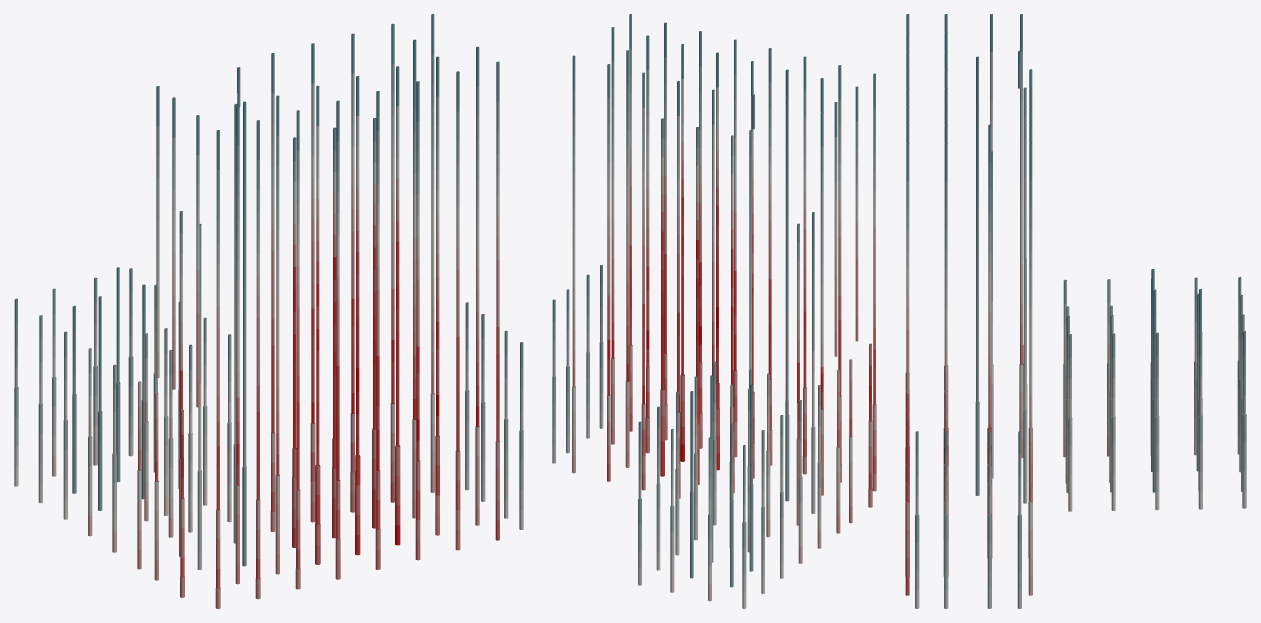
The model's file is CirTube_Fs310MPa.glb.
The picture shows the model from 3 angles, left to right: view 1: azimuth 30°, elevation 25°; view 2: azimuth 150°, elevation 25°; view 3: azimuth 270°, elevation 25°; orthographic projection. The views are drawn at different scales.
Size of the model in its own units: 71.1 by 95.9 by 65.71.
